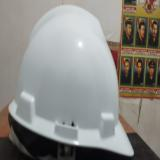Helmet: (9, 4, 134, 158)
